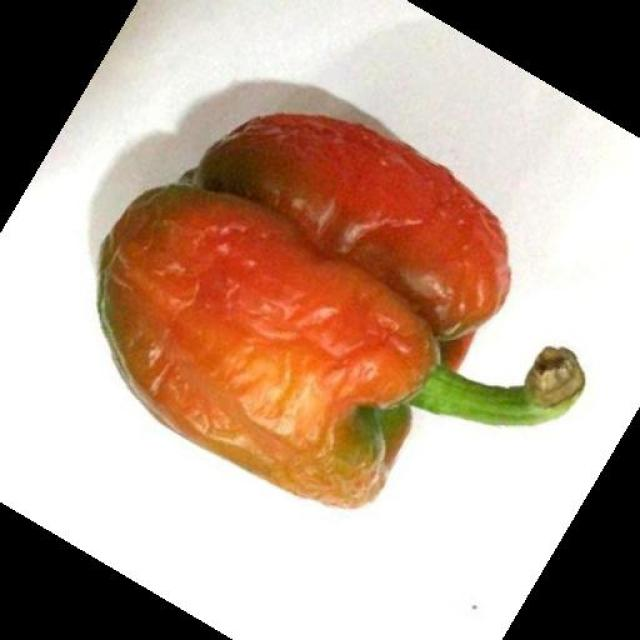Stale_Capsicum: (85, 83, 543, 520)
